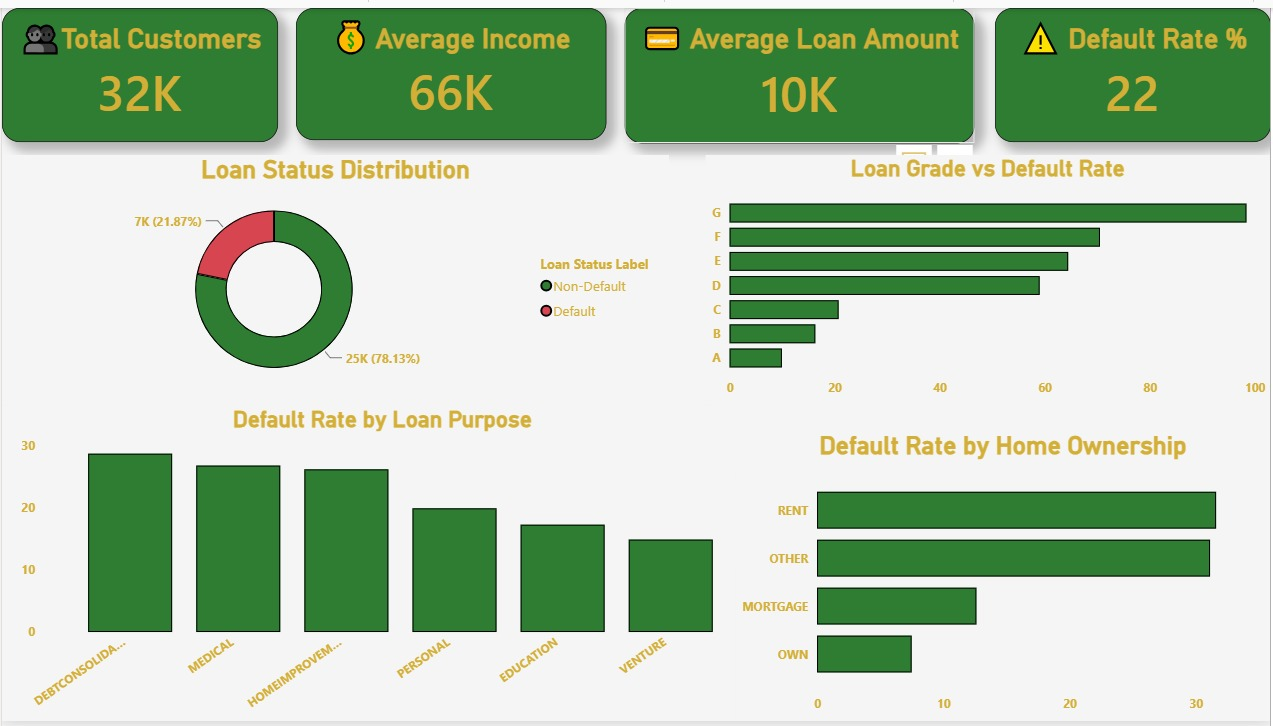

This screenshot's page, from the dashboard's own definition file:
{"tool":"powerbi","page":{"name":"Executive Summary","canvas":[1280,720],"ordinal":1},"visuals":[{"type":"cardVisual","title":"👥Total Customers","fields":{"Data":["Measurement.Total_customer"]},"box":[0,0,278.3,135],"z":0},{"type":"cardVisual","title":"⚠️ Default Rate %","fields":{"Data":["Measurement.defualt_rate"]},"box":[1001.7,0,278.3,135],"z":1000},{"type":"cardVisual","title":"💰 Average Income","fields":{"Data":["Measurement.Average Income"]},"box":[296.7,0,313.3,133.3],"z":2000},{"type":"cardVisual","title":"💳 Average Loan Amount","fields":{"Data":["Measurement.Average Loan Amount"]},"box":[628.3,0,353.3,136.7],"z":3000},{"type":"clusteredBarChart","title":"Loan Grade vs Default Rate","fields":{"Category":["credit_risk_dataset.loan_grade"],"Y":["Measurement.defualt_rate"]},"box":[710,148.3,570,253.3],"z":4000},{"type":"clusteredBarChart","title":"Default Rate by Loan Purpose","fields":{"Category":["credit_risk_dataset.loan_intent"],"Y":["Measurement.defualt_rate"]},"box":[0,401.7,768.3,318.3],"z":5000},{"type":"clusteredColumnChart","title":"Default Rate by Home Ownership","fields":{"Category":["credit_risk_dataset.person_home_ownership"],"Y":["Measurement.defualt_rate"]},"box":[740,426.7,540,293.3],"z":6000},{"type":"donutChart","title":"Loan Status Distribution","fields":{"Category":["credit_risk_dataset.Loan Status Label"],"Y":["Measurement.Total_customer"]},"box":[0,148.3,673.3,241.7],"z":7000}]}

Visuals, with their boxes in screenshot pixels (x1, y1, x2, y2), scaled from the page's 1280x720 canvas onto the 1273x726 screenshot:
"👥Total Customers" cardVisual: BBox(0, 0, 277, 136)
"⚠️ Default Rate %" cardVisual: BBox(996, 0, 1272, 136)
"💰 Average Income" cardVisual: BBox(295, 0, 607, 134)
"💳 Average Loan Amount" cardVisual: BBox(625, 0, 976, 138)
"Loan Grade vs Default Rate" clusteredBarChart: BBox(706, 150, 1272, 405)
"Default Rate by Loan Purpose" clusteredBarChart: BBox(0, 405, 764, 725)
"Default Rate by Home Ownership" clusteredColumnChart: BBox(736, 430, 1272, 725)
"Loan Status Distribution" donutChart: BBox(0, 150, 670, 393)
